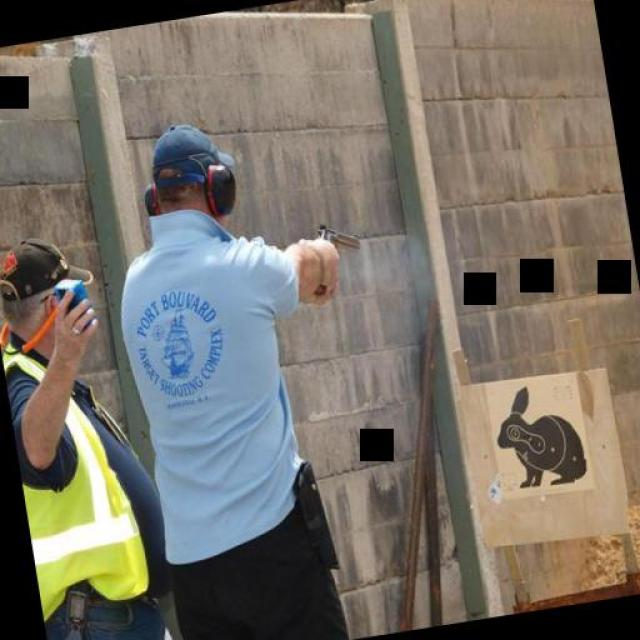gun: (306, 208, 366, 278)
